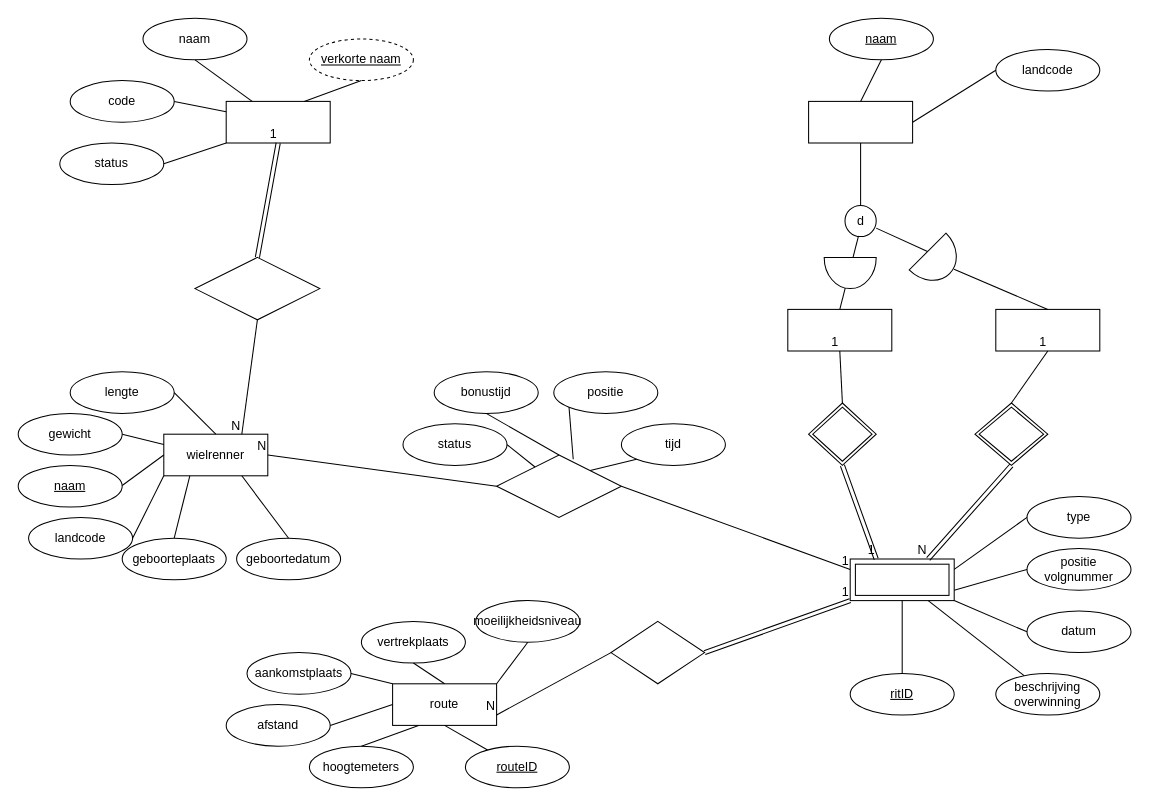
Some shapes in this 1149 by 806 pixel diagram are drawn without their labels. The centre of each missing label's shape, as x and y in pixels:
"eendagswedstrijd" belongs at [839,329].
"is lid van" belongs at [257,288].
"meerdaagse wedstrijd / rittenkoers" belongs at [1047,329].
"neemt deel aan" belongs at [558,485].
"rit" belongs at [901,579].
"van" belongs at [657,652].
"Wielerteam" belongs at [277,121].
"wielerwedstrijd" belongs at [860,121].
